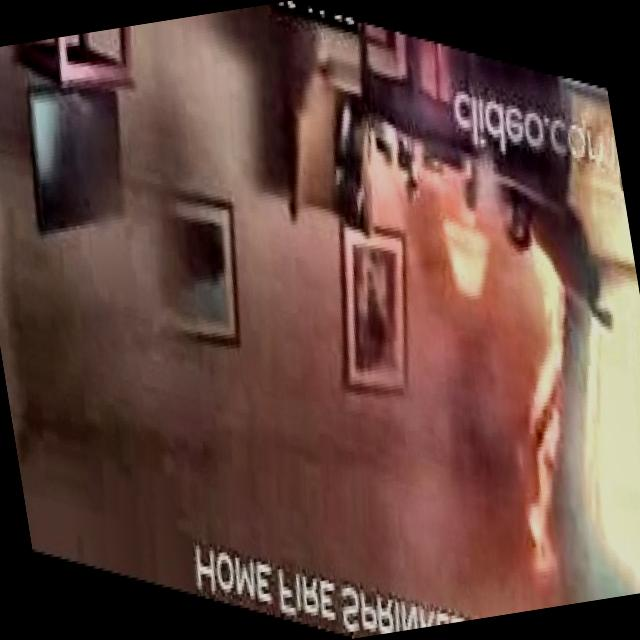fire: (441, 199, 636, 615)
